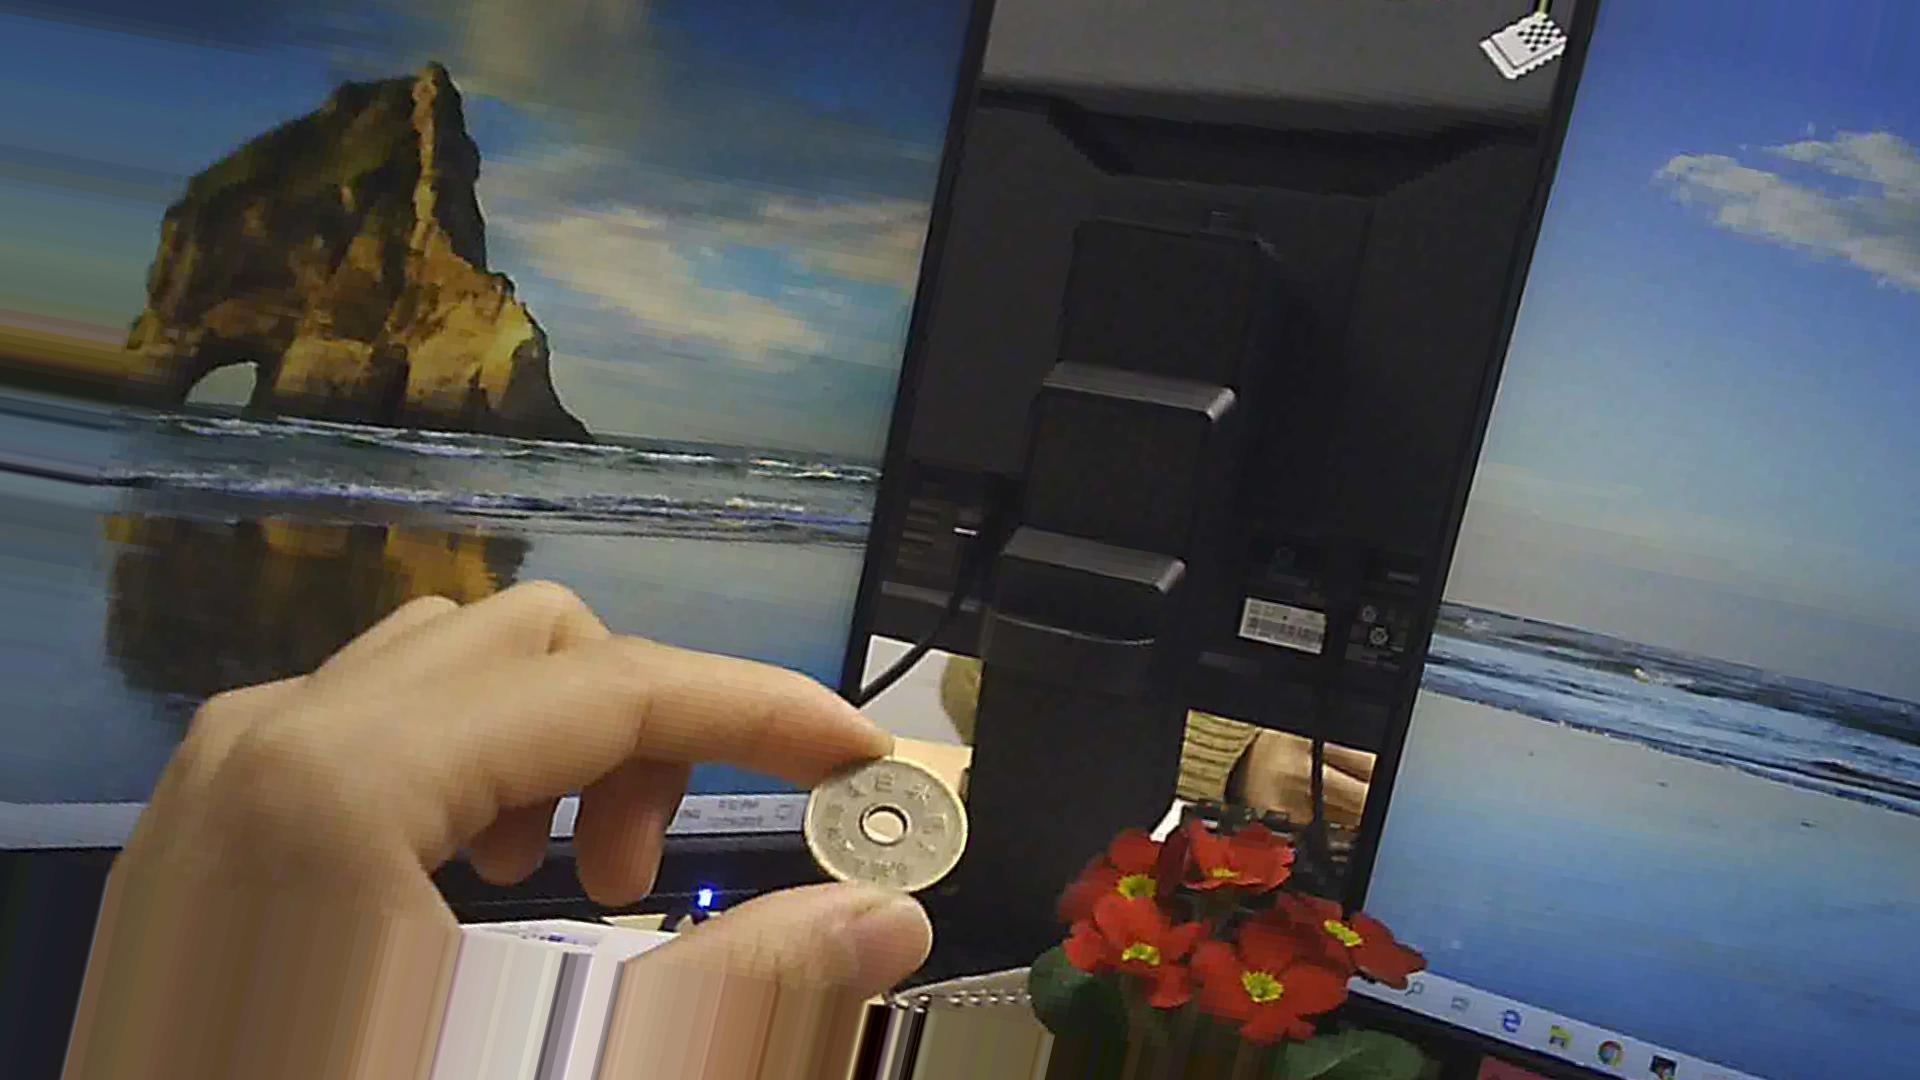5 Yen: (800, 738, 988, 920)
